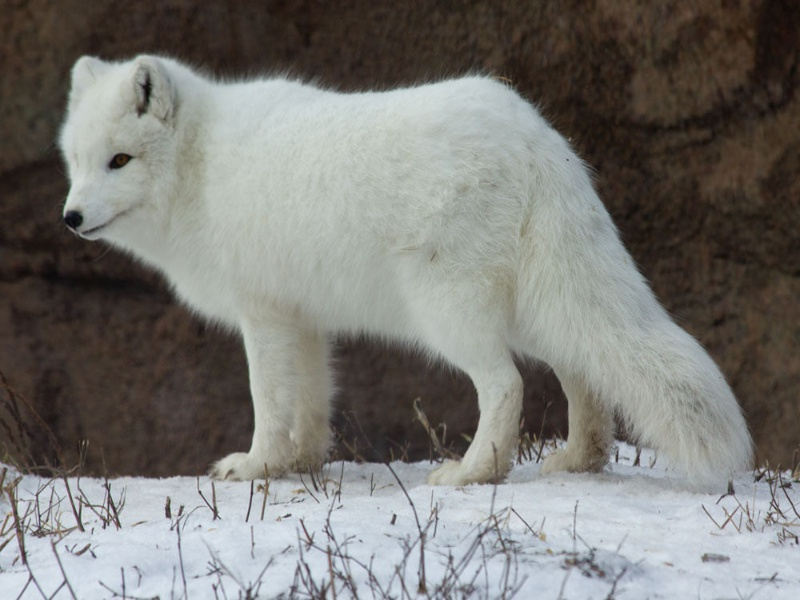fox: (61, 51, 751, 496)
